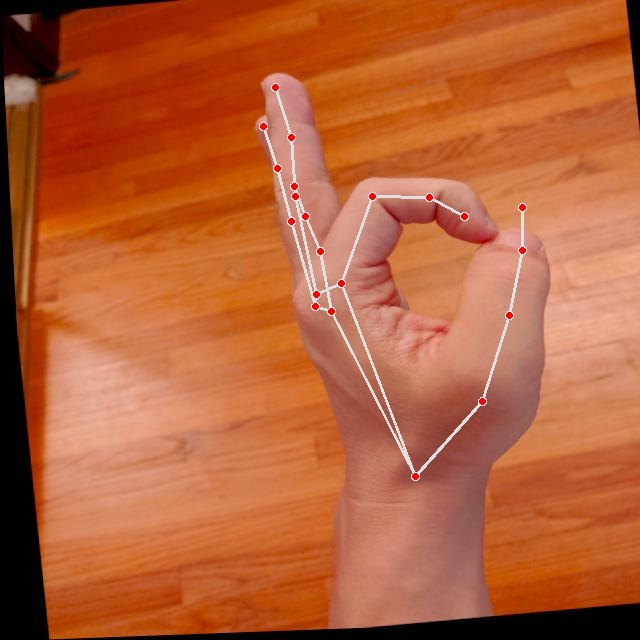F: (241, 49, 573, 502)
